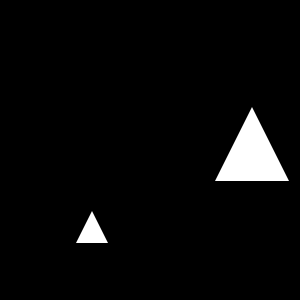triangle: (215, 107, 289, 181), (76, 211, 108, 243)
